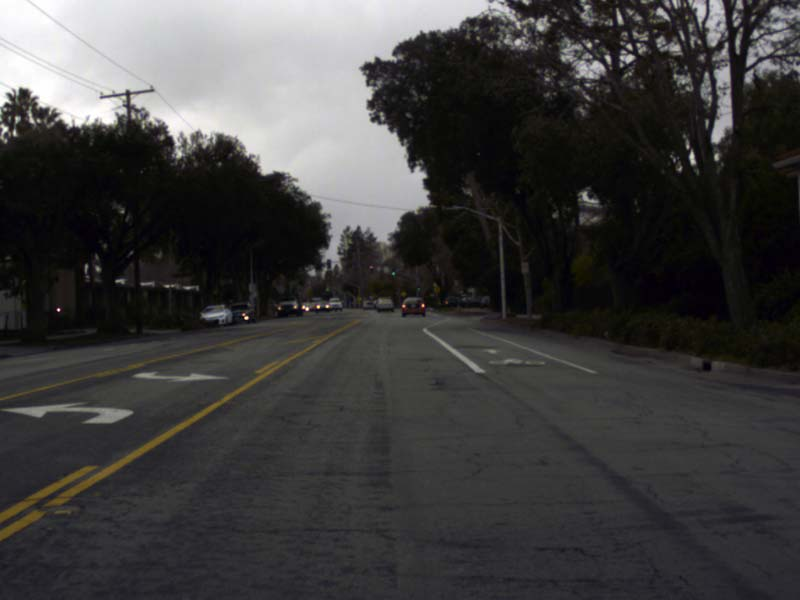Green: (325, 283, 329, 290), (392, 268, 394, 275), (417, 284, 419, 290)
Red: (370, 266, 373, 273)
